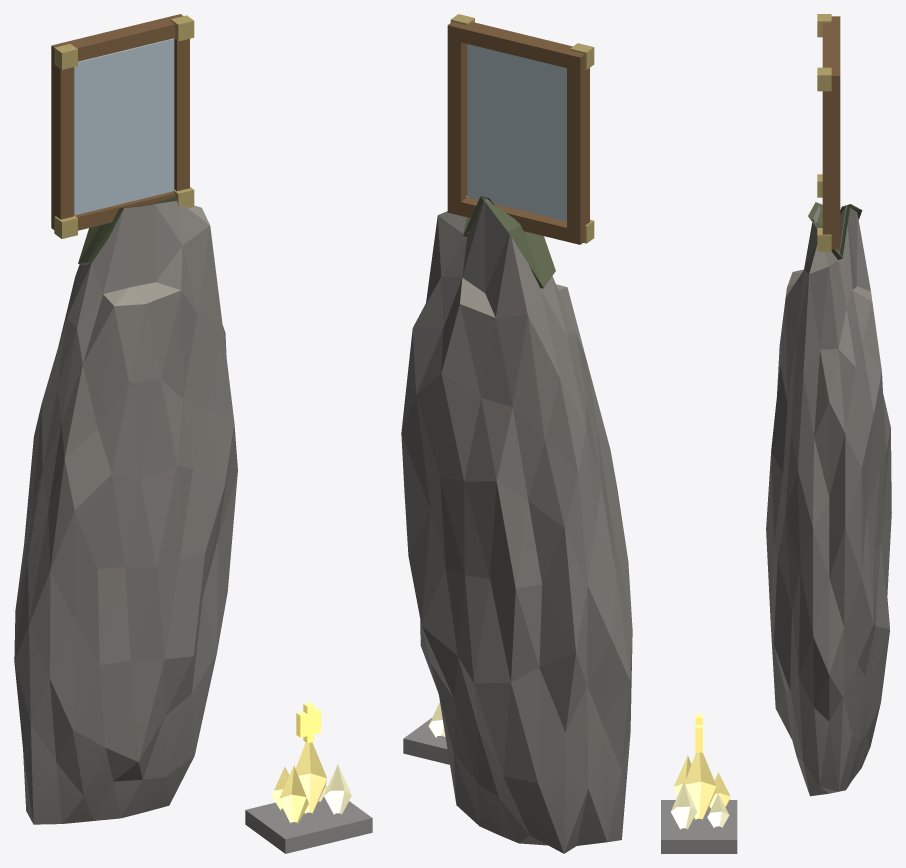
File: sun-mirror-spire.glb
3 views of the same model, side by side, from view 1: azimuth 30°, elevation 25°; view 2: azimuth 150°, elevation 25°; view 3: azimuth 270°, elevation 25° (orthographic). The views are drawn at different scales.
Visible parts, largest first — view 1: sun-mirror-spire_body, sun-mirror-spire_glow; view 2: sun-mirror-spire_body; view 3: sun-mirror-spire_body, sun-mirror-spire_glow.
Boxes of the visible parts, x1,y1,x2,y2 form: sun-mirror-spire_body: [14, 14, 372, 853]; sun-mirror-spire_glow: [272, 702, 351, 823]; sun-mirror-spire_body: [401, 14, 632, 853]; sun-mirror-spire_body: [661, 14, 891, 853]; sun-mirror-spire_glow: [671, 714, 730, 829].
Bounding box in the file's own units: 3.64 × 10 × 2.85.
